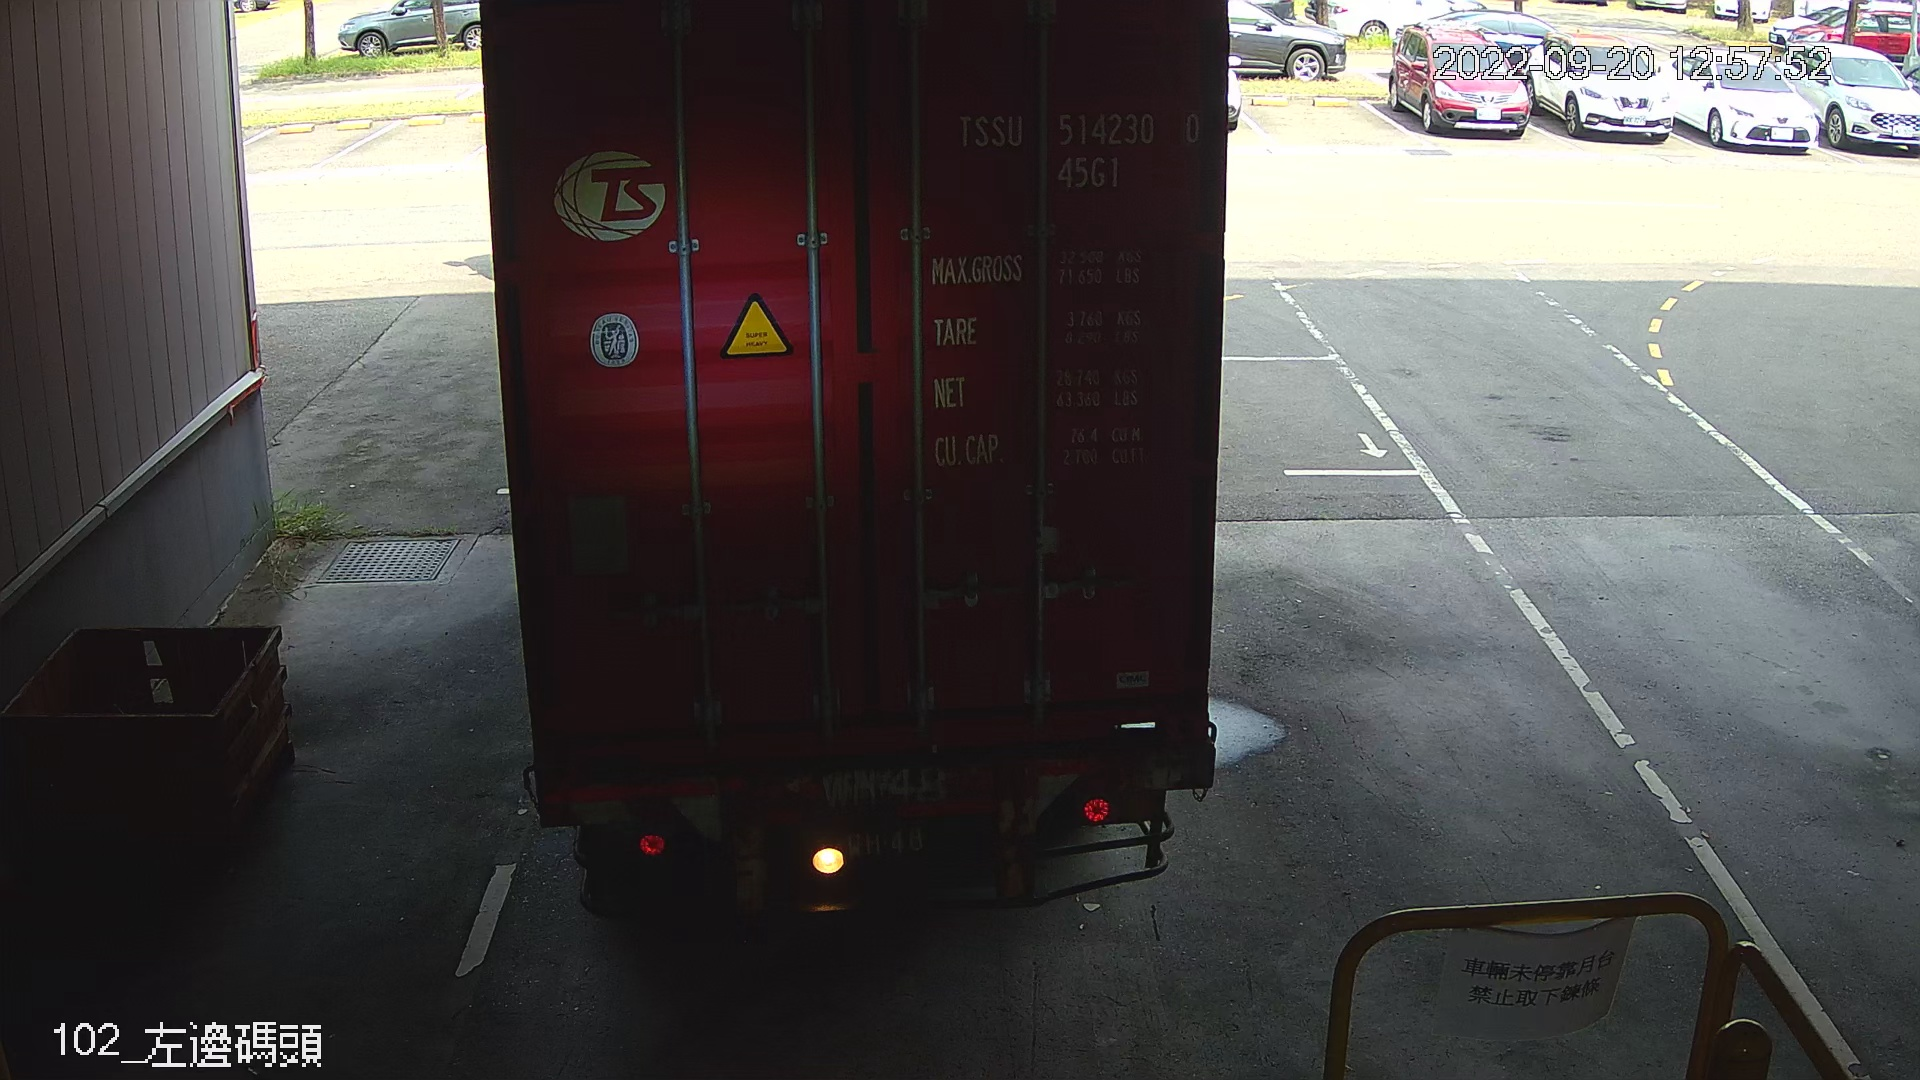container: (947, 102, 1215, 199)
